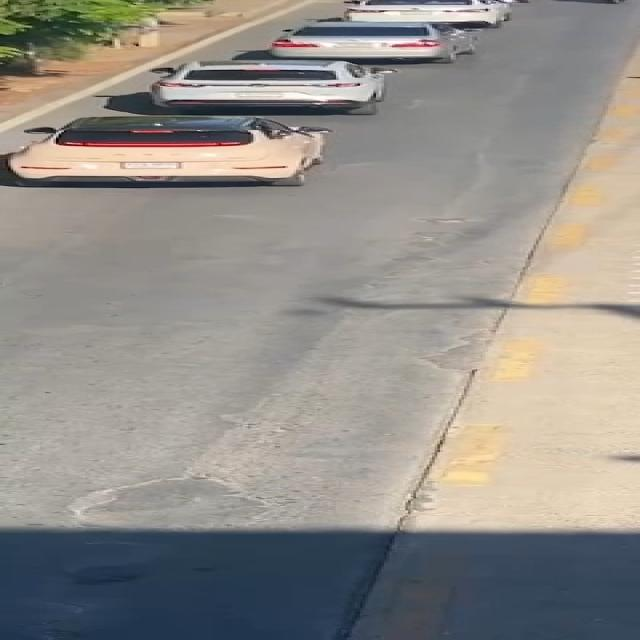car: (0, 115, 366, 193), (122, 59, 434, 117), (259, 19, 491, 62)
